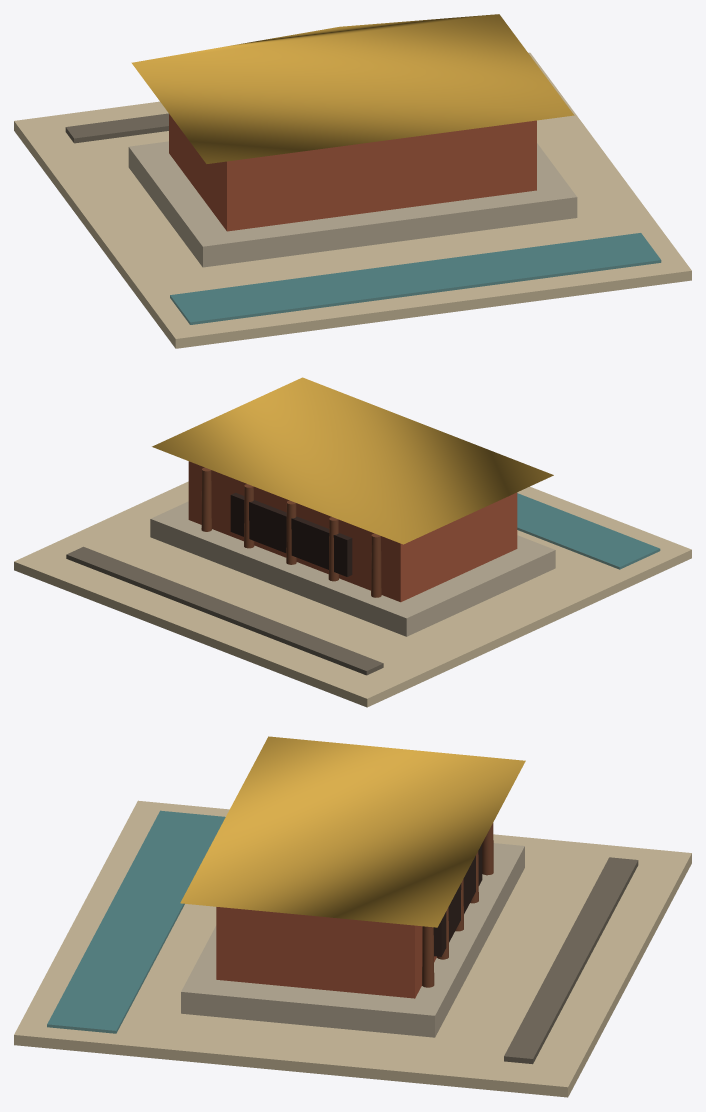
The model's file is model-medium.glb.
3 views of the same model, one above another, from view 1: azimuth 30°, elevation 25°; view 2: azimuth 150°, elevation 25°; view 3: azimuth 270°, elevation 25° (orthographic). The views are drawn at different scales.
Visible parts, largest first — view 1: context_site_plinth, sweeping_tiled_roof, main_hall_wall_volume, raised_ceremonial_platform, context_water_edge, front_scale_strip; view 2: context_site_plinth, sweeping_tiled_roof, raised_ceremonial_platform, main_hall_wall_volume, front_scale_strip, context_water_edge, central_shadow_door, front_column_1, front_column_5; view 3: context_site_plinth, sweeping_tiled_roof, raised_ceremonial_platform, context_water_edge, main_hall_wall_volume, front_scale_strip, central_shadow_door, front_column_5.
Boxes of the visible parts, <box> form: context_site_plinth: <box>14,52,691,348</box>; sweeping_tiled_roof: <box>131,14,574,163</box>; main_hall_wall_volume: <box>169,114,536,231</box>; raised_ceremonial_platform: <box>128,141,577,267</box>; context_water_edge: <box>170,233,661,324</box>; front_scale_strip: <box>65,113,168,143</box>; context_site_plinth: <box>14,481,691,707</box>; sweeping_tiled_roof: <box>152,377,553,544</box>; raised_ceremonial_platform: <box>150,501,555,636</box>; main_hall_wall_volume: <box>188,461,517,602</box>; front_scale_strip: <box>66,546,383,675</box>; context_water_edge: <box>517,493,660,569</box>; central_shadow_door: <box>230,492,352,576</box>; front_column_1: <box>371,533,381,597</box>; front_column_5: <box>201,467,211,531</box>; context_site_plinth: <box>14,800,691,1097</box>; sweeping_tiled_roof: <box>180,736,525,927</box>; raised_ceremonial_platform: <box>181,843,524,1037</box>; context_water_edge: <box>47,810,225,1033</box>; main_hall_wall_volume: <box>216,907,436,998</box>; front_scale_strip: <box>504,857,638,1064</box>; central_shadow_door: <box>433,843,482,956</box>; front_column_5: <box>422,926,434,987</box>.
Size of the model in its own units: 9.55 by 2.62 by 9.55.
